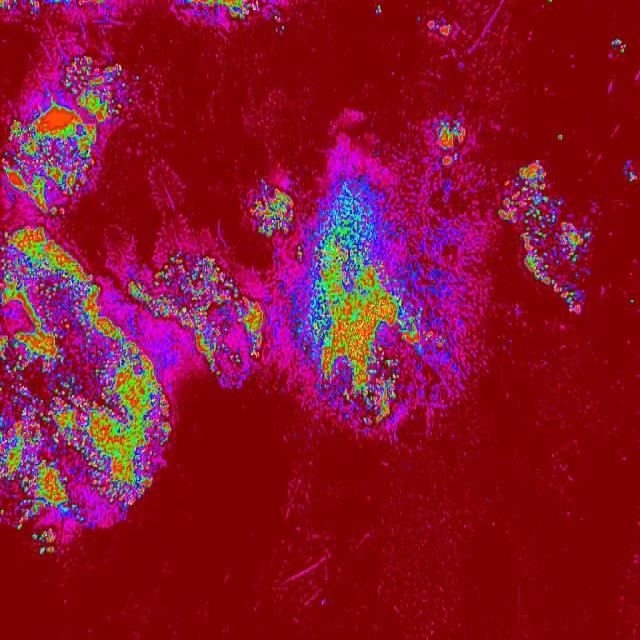fire: (286, 170, 460, 441), (0, 336, 130, 532), (3, 53, 142, 221), (128, 253, 266, 386), (498, 160, 597, 316), (0, 223, 124, 335), (130, 388, 172, 502), (248, 176, 288, 238), (430, 117, 468, 168), (179, 0, 263, 20), (32, 532, 56, 557), (424, 16, 450, 36), (621, 162, 635, 188), (610, 38, 629, 57), (50, 0, 109, 6), (271, 12, 287, 32), (27, 0, 42, 18), (0, 0, 15, 16), (372, 2, 383, 16), (554, 132, 566, 142), (628, 294, 634, 304), (545, 0, 557, 5)
